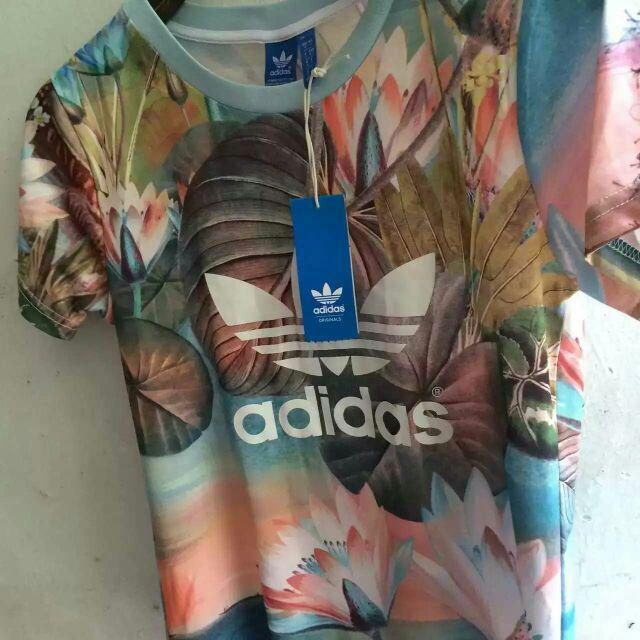Tops: (20, 3, 640, 639)
